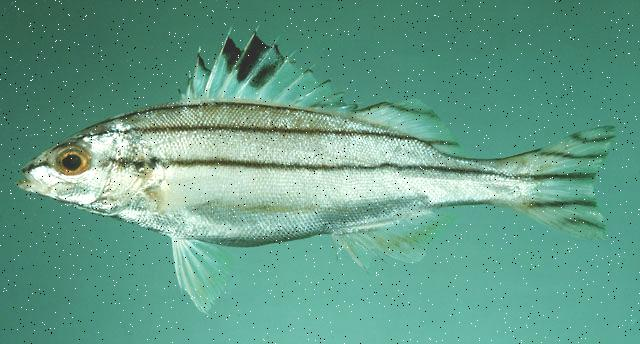Mulut: (8, 154, 46, 207)
Sirip Anal: (333, 200, 441, 270)
Sirip Dada: (134, 166, 238, 220)
Sirip Ekor: (524, 118, 626, 252)
Sirip Perut: (164, 227, 236, 320)
Sirip Punggung: (175, 18, 465, 152)
